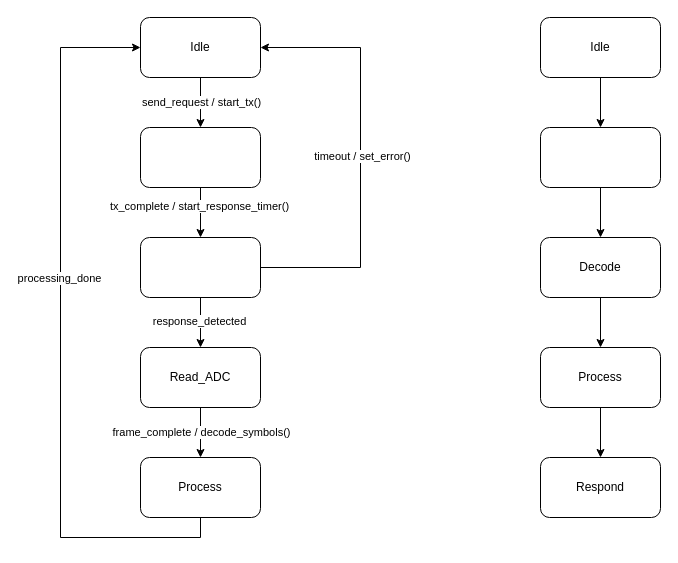
This 678x563 diagram has some shape labels left out. Each missing label, with the centre of its shape:
Receive: (x=600, y=157)
Send: (x=200, y=157)
Wait_Reponse: (x=200, y=267)
